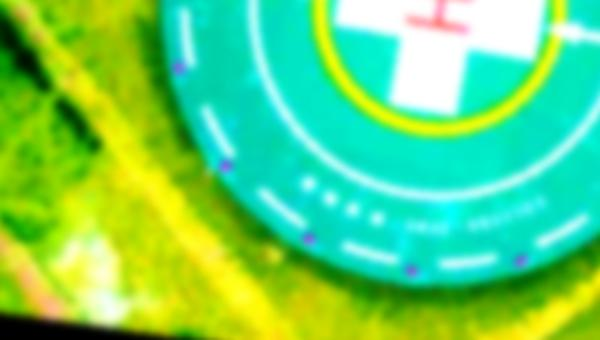Apron: (310, 1, 566, 143)
